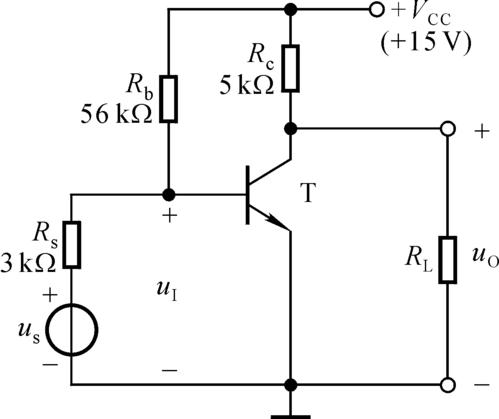power1: (39, 289, 102, 372)
res1: (434, 233, 461, 287), (156, 73, 181, 127), (60, 218, 84, 272), (279, 43, 303, 95)
triode: (242, 149, 300, 238)
